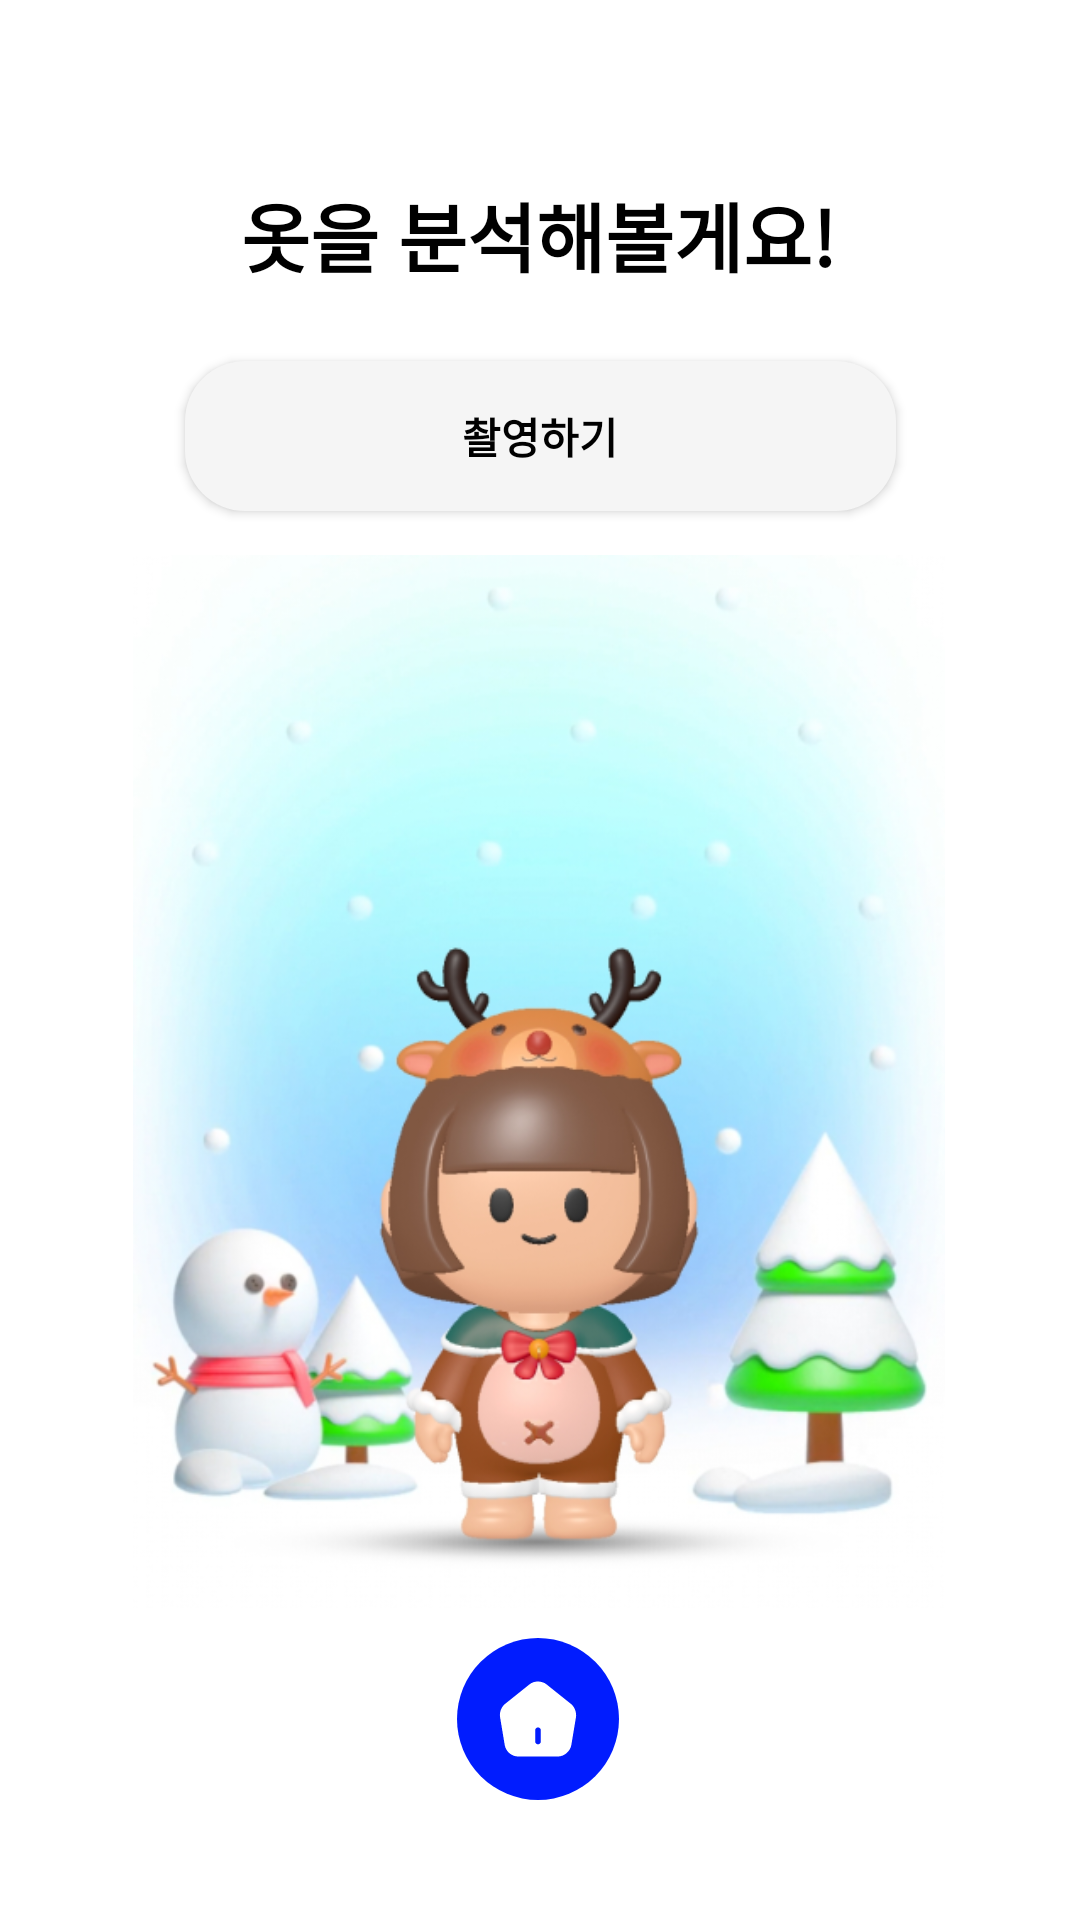

Icon click points for this 1080px x 1920px phone screenshot, format (x,y):
home: (538,1719)
